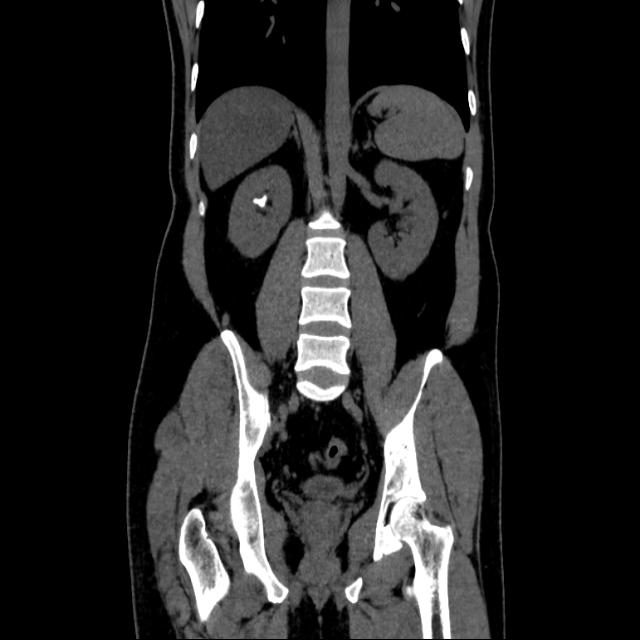kidneystone: (252, 195, 268, 207)
